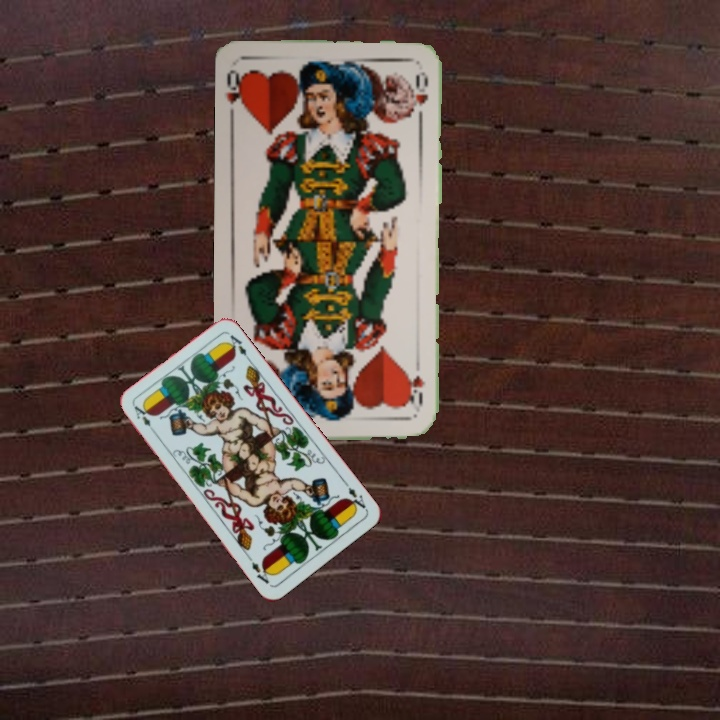EA: (340, 477, 369, 513), (130, 401, 153, 429)
HO: (223, 66, 249, 123), (405, 355, 427, 407)
